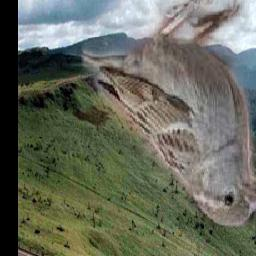Sparrow: (81, 0, 256, 228)
